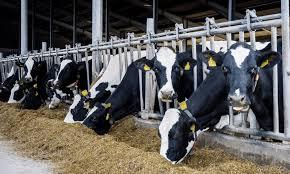cow: (63, 47, 156, 125), (160, 63, 230, 166), (205, 42, 284, 133), (82, 55, 157, 136), (137, 46, 198, 101), (52, 56, 91, 89), (47, 76, 76, 108), (21, 81, 50, 107), (0, 66, 19, 101), (18, 57, 50, 77), (8, 79, 31, 103)
